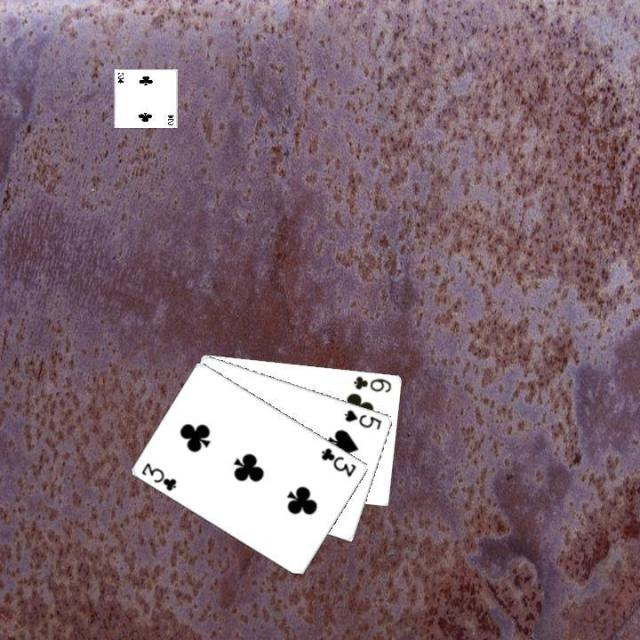3C: (317, 444, 358, 478), (138, 459, 178, 493)
5S: (341, 405, 384, 431)
6C: (350, 372, 394, 394)
